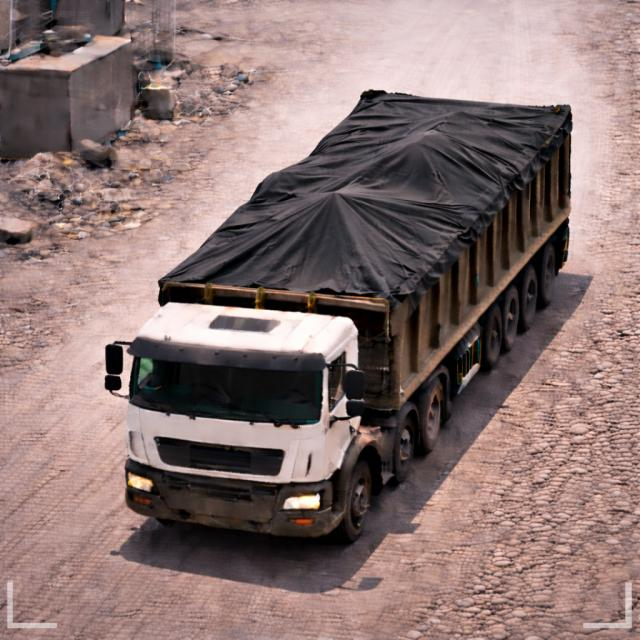Box: (162, 89, 556, 307)
Truck: (103, 84, 574, 540)
